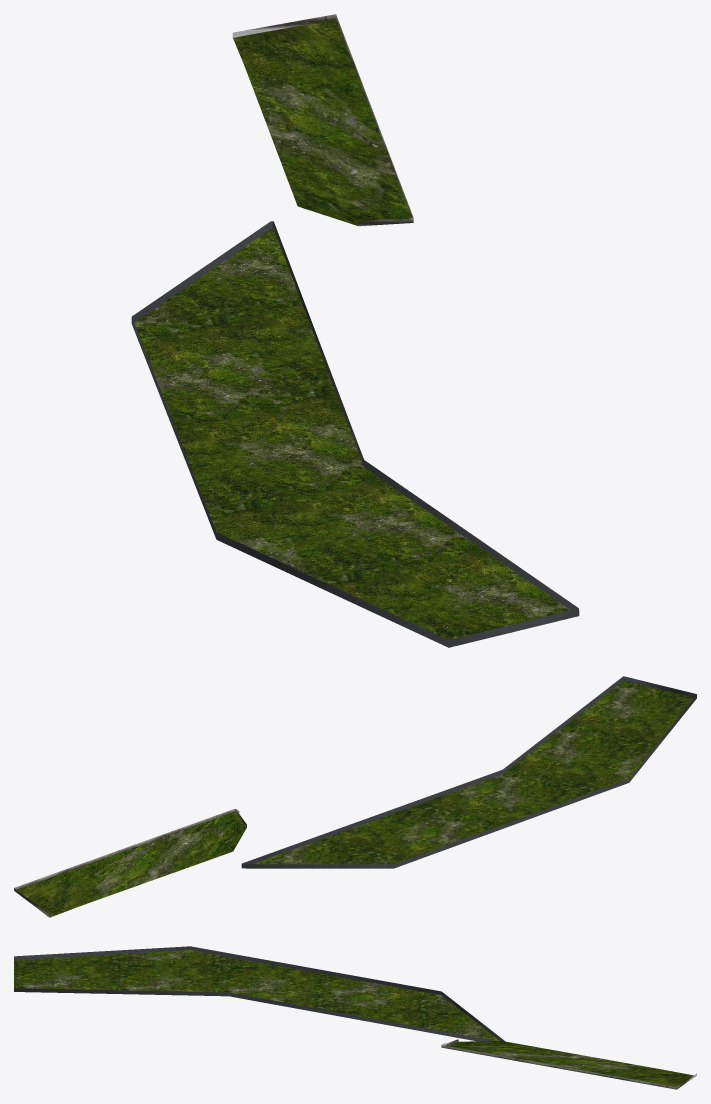
File: STA20_63.FBX
3 views of the same model, one above another, from view 1: azimuth 30°, elevation 25°; view 2: azimuth 150°, elevation 25°; view 3: azimuth 270°, elevation 25° (orthographic). The views are drawn at different scales.
Visible parts, largest first — view 1: STA20_63; view 2: STA20_63; view 3: STA20_63.
Part boxes in pixels (x1,y1,x2,y2): STA20_63: (131,14,579,647); STA20_63: (14,676,696,917); STA20_63: (14,946,696,1089).
Bounding box in the file's own units: 17.57 × 1.1 × 34.29.
